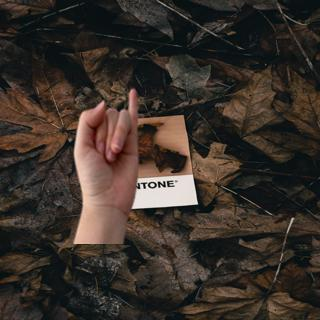Fine: (68, 87, 150, 230)
